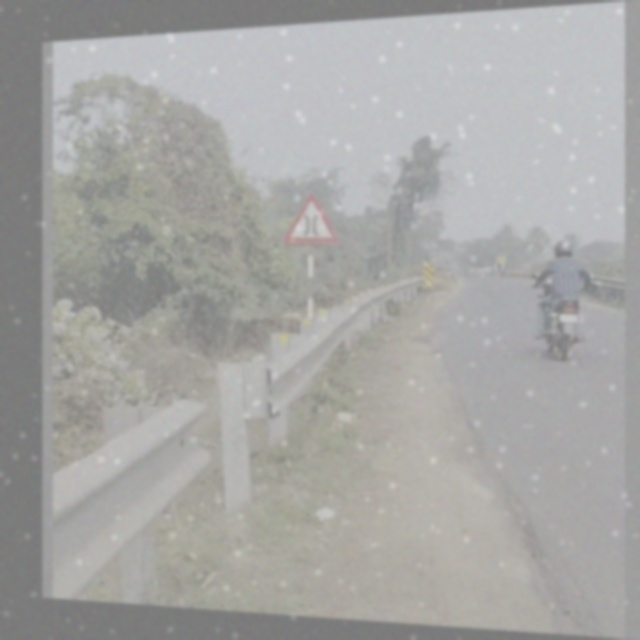Narrow_Bridge: (285, 192, 333, 242)
